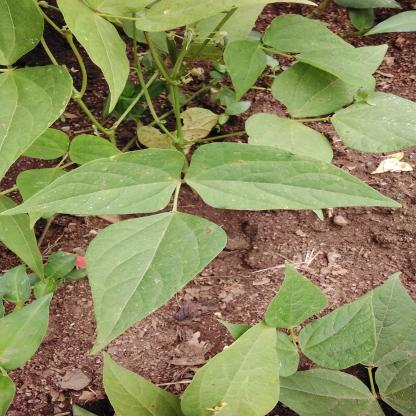Beans_Rust: (88, 216, 227, 351), (186, 143, 398, 208), (11, 150, 185, 214)
